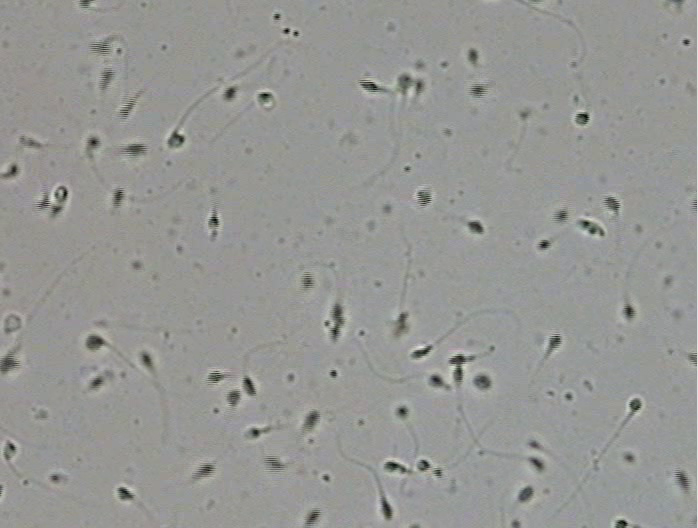S: (329, 304, 345, 343), (577, 219, 605, 237), (673, 468, 690, 491), (1, 355, 20, 375), (99, 68, 115, 91), (122, 143, 148, 157), (264, 455, 284, 473), (192, 464, 216, 479), (302, 410, 320, 430), (379, 496, 393, 520), (90, 41, 112, 56), (241, 375, 256, 397), (603, 195, 621, 212), (85, 334, 104, 350), (119, 100, 134, 120), (410, 346, 431, 360), (358, 79, 379, 93), (304, 509, 321, 526), (167, 132, 185, 148), (3, 440, 17, 460), (394, 312, 408, 332), (517, 486, 534, 502), (206, 370, 224, 385), (417, 189, 432, 207), (54, 184, 69, 202), (111, 187, 124, 207), (226, 390, 242, 406), (552, 208, 569, 223), (621, 303, 636, 320), (116, 487, 134, 501), (473, 375, 491, 389), (469, 84, 486, 98), (548, 332, 562, 349), (301, 271, 314, 289), (447, 354, 468, 365), (452, 365, 464, 384), (88, 377, 104, 391), (468, 220, 484, 234), (628, 397, 642, 413), (427, 374, 444, 387), (398, 74, 411, 91), (35, 197, 50, 211), (528, 457, 543, 471), (86, 136, 101, 149), (140, 352, 153, 367), (574, 112, 589, 125), (223, 87, 236, 101), (49, 204, 62, 218), (417, 459, 431, 472), (208, 214, 220, 229), (383, 461, 399, 472), (7, 164, 19, 178), (257, 92, 272, 103), (536, 239, 551, 250), (246, 428, 260, 439), (468, 49, 479, 63), (687, 351, 697, 366), (395, 407, 408, 418), (415, 79, 424, 94), (614, 519, 628, 528), (528, 440, 540, 450), (78, 1, 92, 9), (691, 198, 697, 211), (1, 484, 4, 497)
